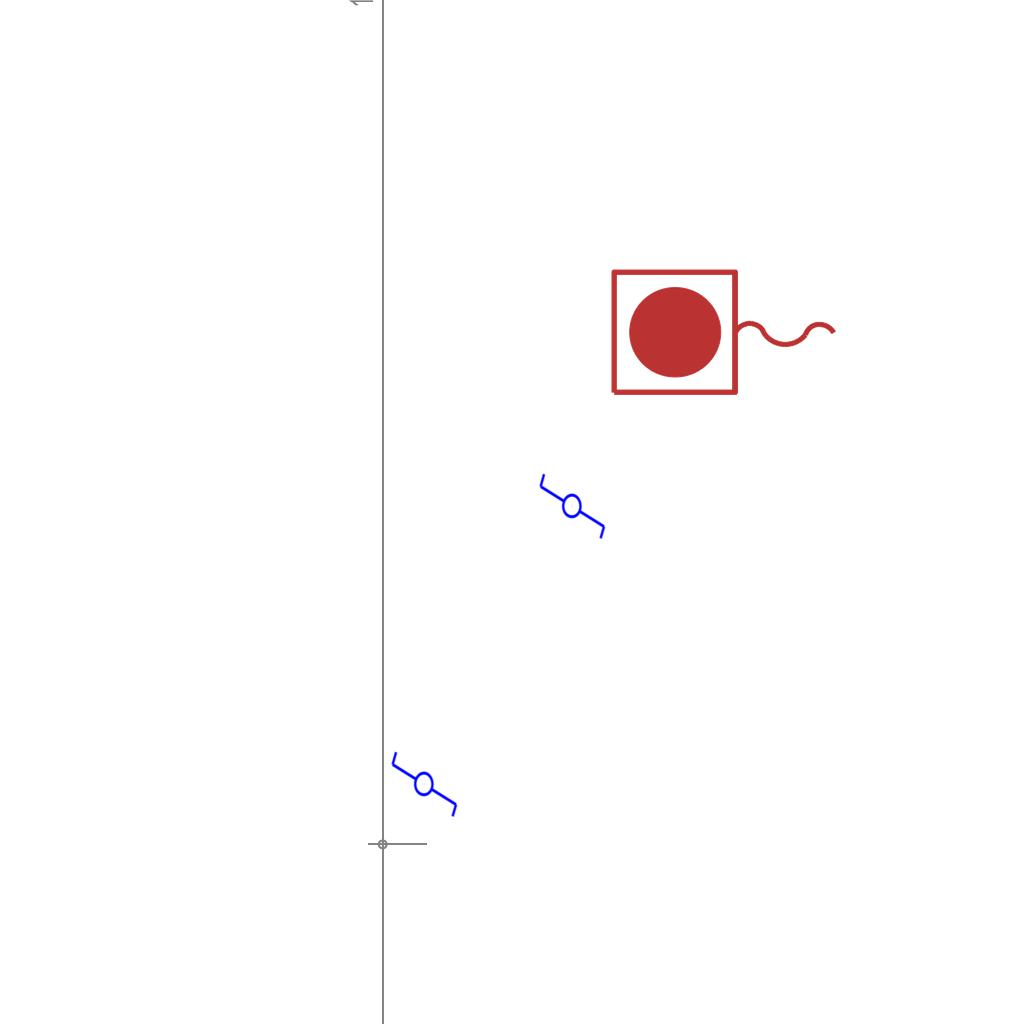Wechselschalter: (389, 741, 461, 819), (537, 463, 609, 541)
Zugtaster: (603, 262, 847, 406)
